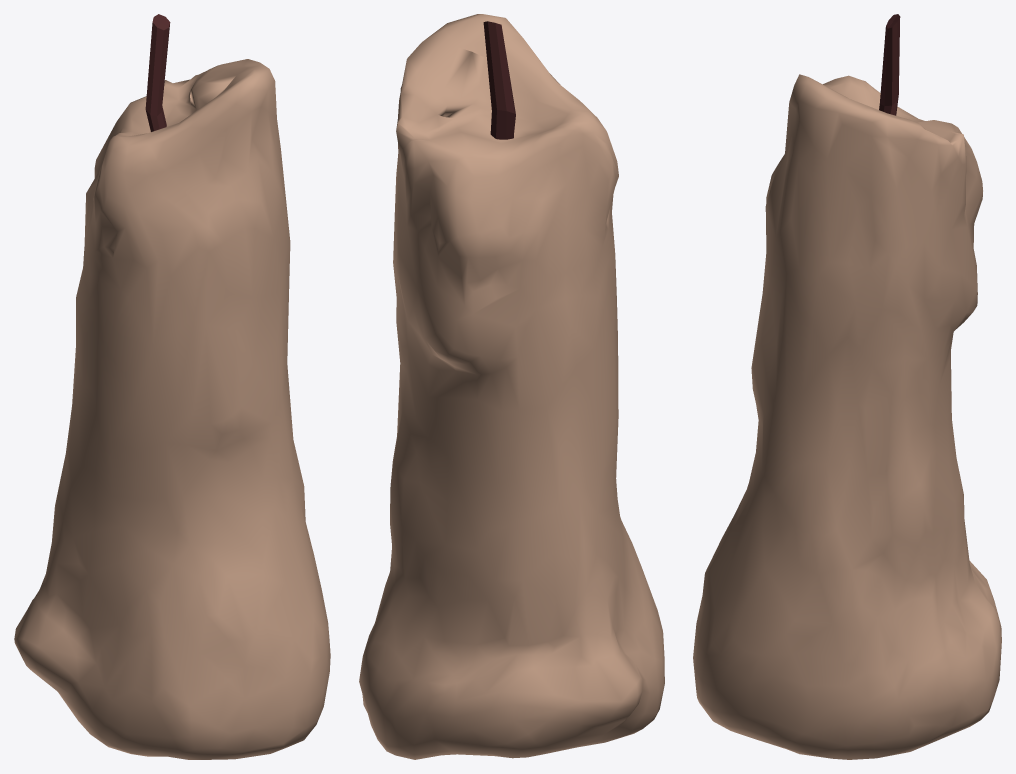
File: candle.fbx
3 views of the same model, side by side, from view 1: azimuth 30°, elevation 25°; view 2: azimuth 150°, elevation 25°; view 3: azimuth 270°, elevation 25° (orthographic). The views are drawn at different scales.
Visible parts, largest first — view 1: candle; view 2: candle; view 3: candle.
Part boxes in pixels (x1,y1,x2,y2): candle: (14, 14, 330, 759); candle: (359, 14, 664, 759); candle: (693, 14, 1001, 759).
Bounding box in the file's own units: 11.35 × 28.92 × 11.62.
